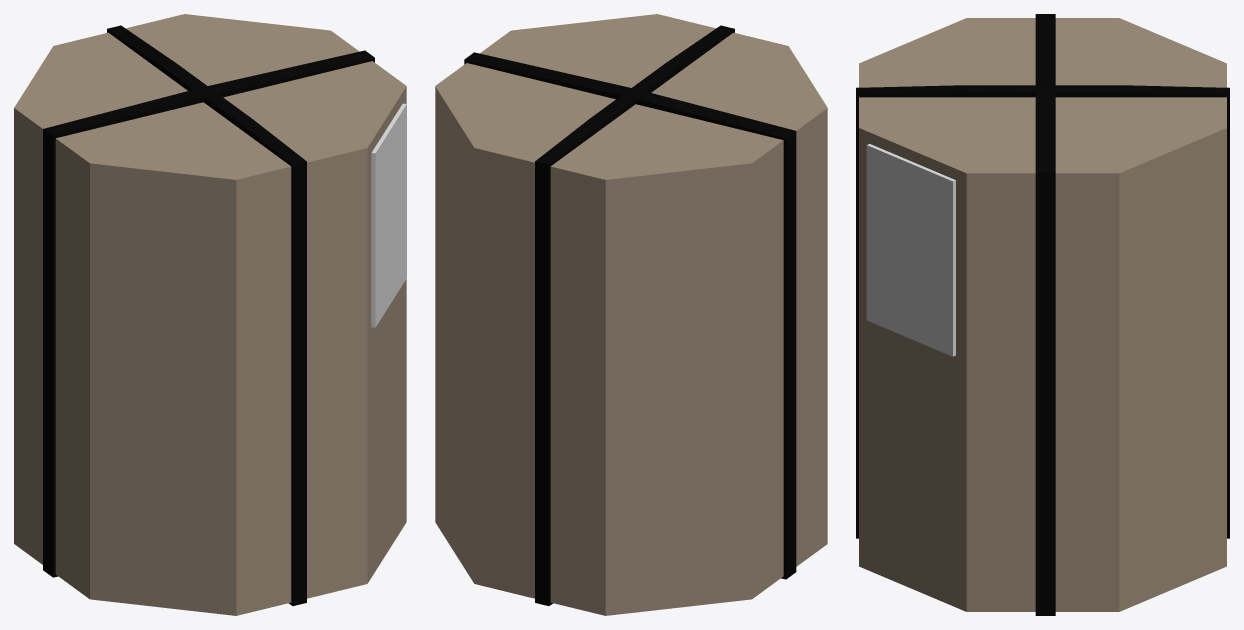
Rendered from package02.fbx.
3 views of the same model, side by side, from view 1: azimuth 30°, elevation 25°; view 2: azimuth 150°, elevation 25°; view 3: azimuth 270°, elevation 25° (orthographic).
Visible parts, largest first — view 1: pCylinder1; view 2: pCylinder1; view 3: pCylinder1.
Part boxes in pixels (box(x1,y1,x2,y2)): pCylinder1: box(14, 14, 406, 615); pCylinder1: box(435, 14, 827, 615); pCylinder1: box(856, 14, 1229, 615).
Bounding box in the file's own units: 2.24 × 2.96 × 2.24.
